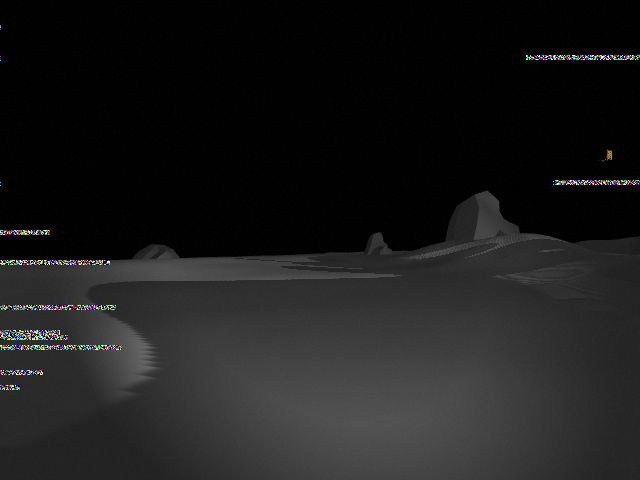cubesat: (598, 148, 613, 165)
